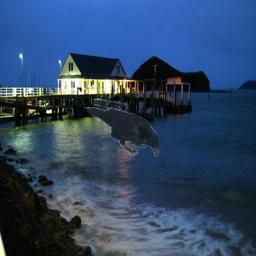Crow: (86, 107, 159, 157)
